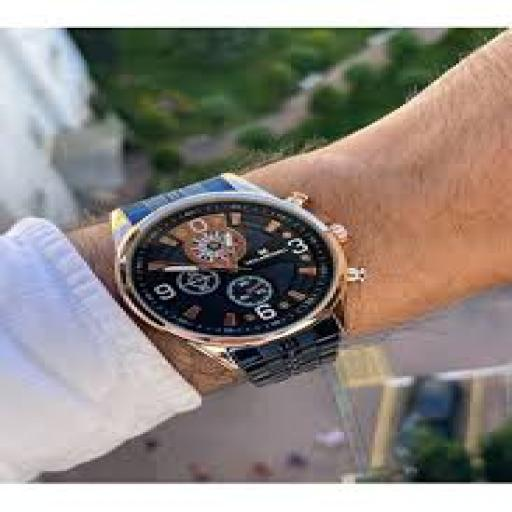KolSaati: (98, 168, 396, 399)
